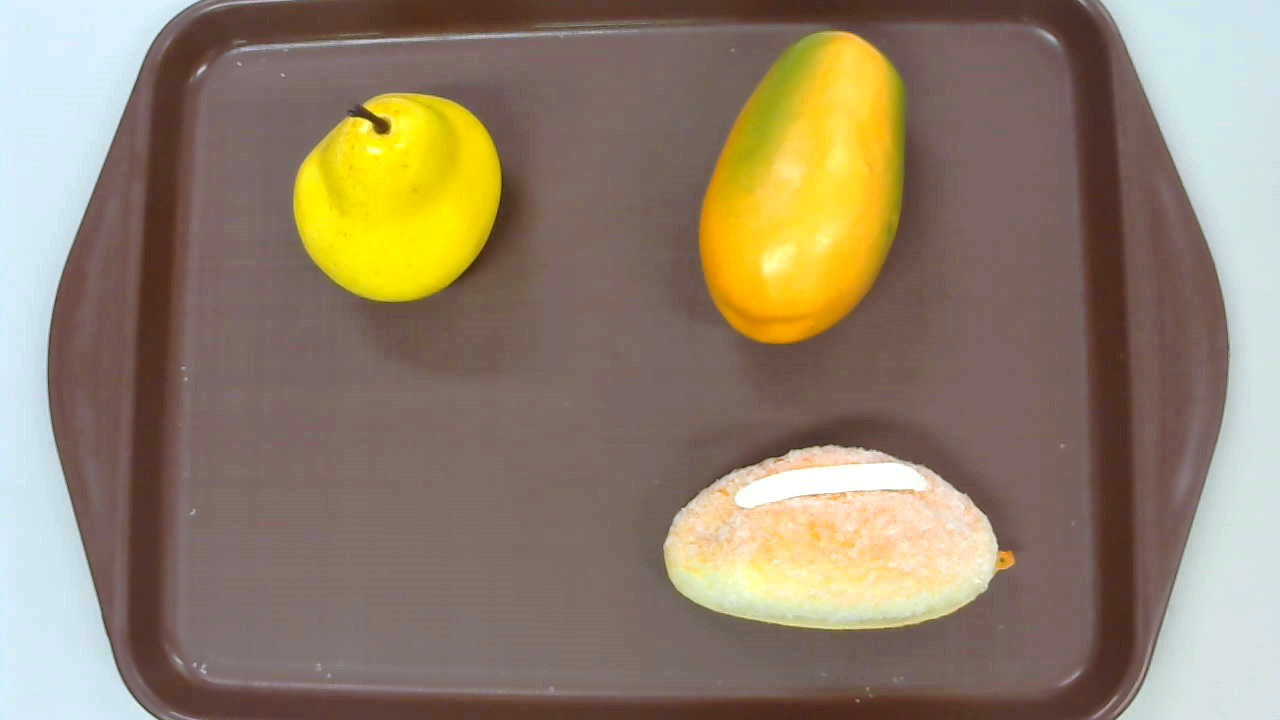coconut: (663, 443, 1015, 633)
papya: (699, 30, 907, 345)
yellow pear: (292, 91, 502, 303)
